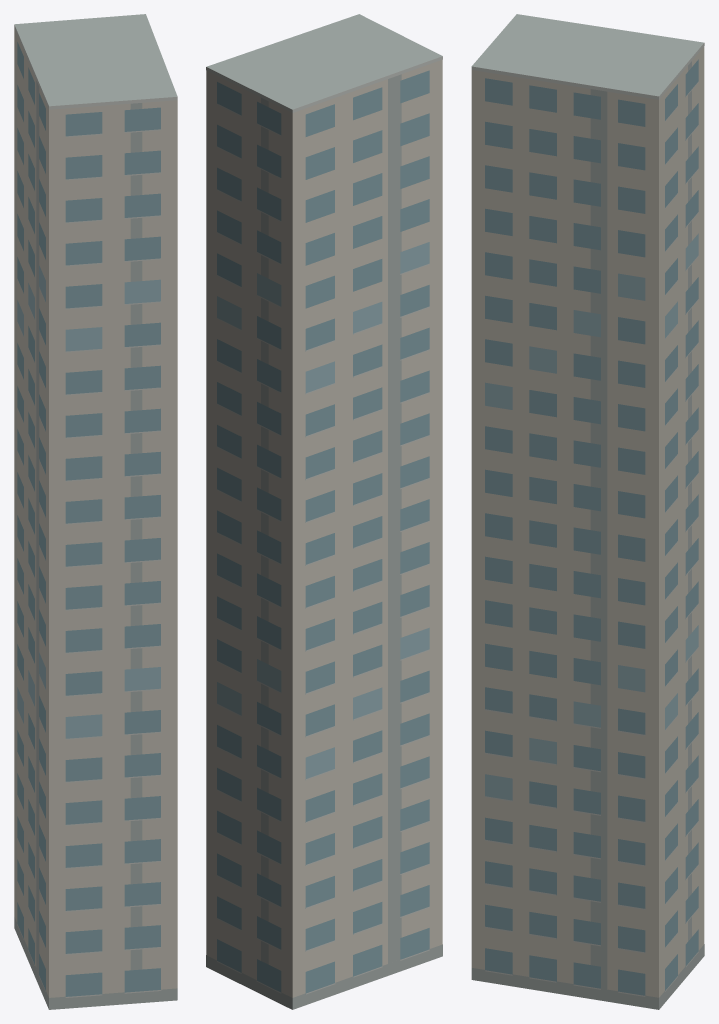
The model's file is survey-upis-32518413.glb.
3 views of the same model, side by side, from view 1: azimuth 30°, elevation 25°; view 2: azimuth 150°, elevation 25°; view 3: azimuth 270°, elevation 25° (orthographic).
Parts seen in each view (by area): view 1: survey-upis-32518413.tmp; view 2: survey-upis-32518413.tmp; view 3: survey-upis-32518413.tmp.
Boxes of the visible parts, x1,y1,x2,y2 form: survey-upis-32518413.tmp: [14, 14, 177, 1009]; survey-upis-32518413.tmp: [206, 14, 442, 1009]; survey-upis-32518413.tmp: [471, 14, 704, 1009].
Bounding box in the file's own units: 12.41 × 64.05 × 14.81.
